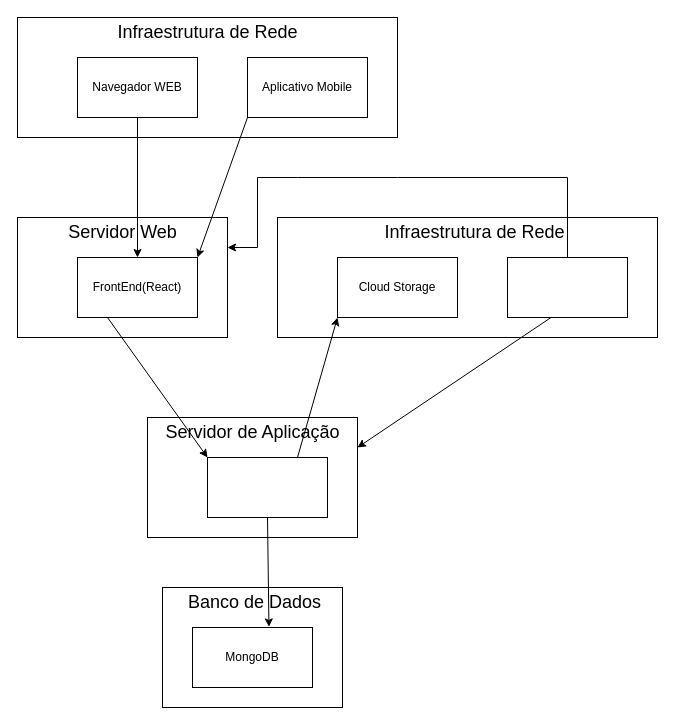
Image size: 675x725. Some labels were removed from this diagram. The centre of each missing label's shape, as x and y in pixels:
"BackEnd(Node.js)" belongs at [267,487].
"Load Balancer" belongs at [567,287].
